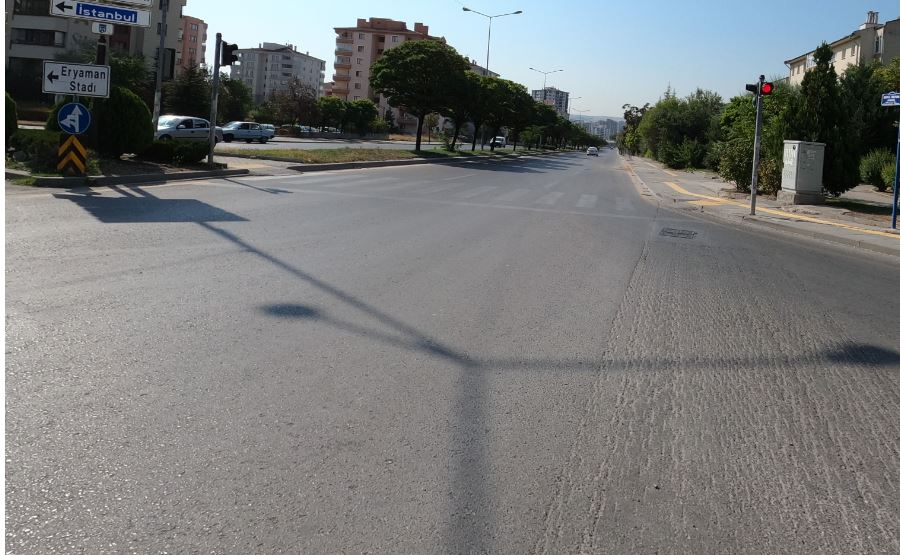ileri ve Sola Mecburi Don: (56, 100, 93, 140)
